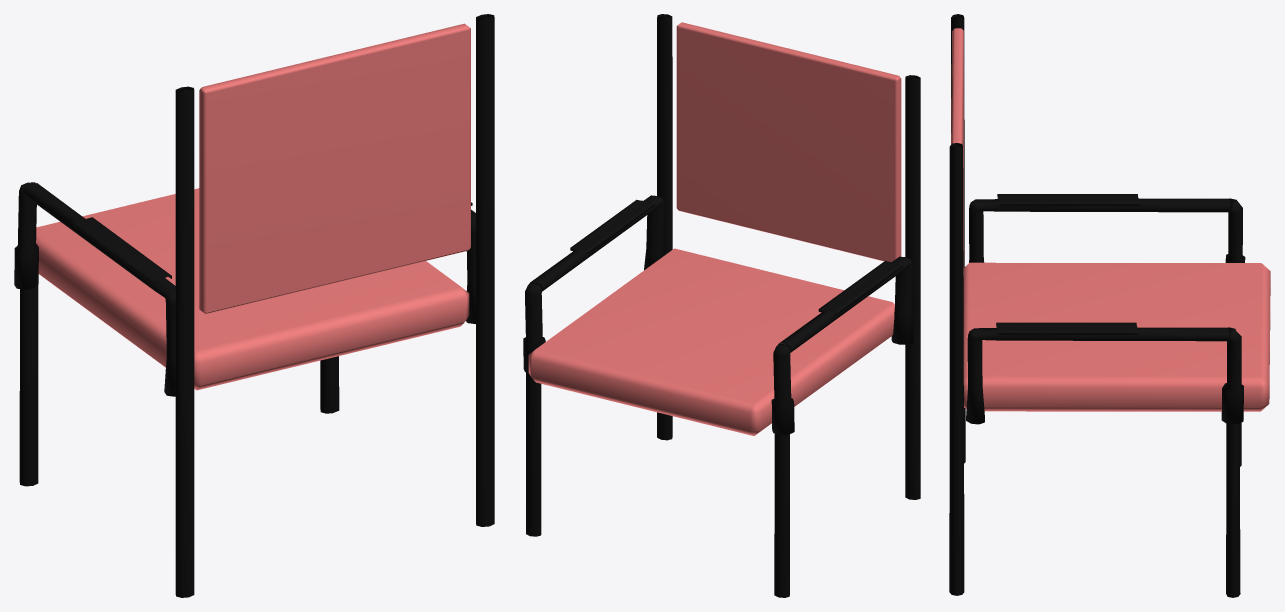
Rendered from Student_Chair.fbx.
The picture shows the model from 3 angles, left to right: view 1: azimuth 30°, elevation 25°; view 2: azimuth 150°, elevation 25°; view 3: azimuth 270°, elevation 25°; orthographic projection. The views are drawn at different scales.
Visible parts, largest first — view 1: CHAİR2.002; view 2: CHAİR2.002; view 3: CHAİR2.002.
Boxes of the visible parts, box(x1,y1,x2,y2) form: CHAİR2.002: box(14, 14, 494, 597); CHAİR2.002: box(523, 14, 920, 597); CHAİR2.002: box(949, 14, 1270, 597).
Bounding box in the file's own units: 4.4 × 6.55 × 4.26.
